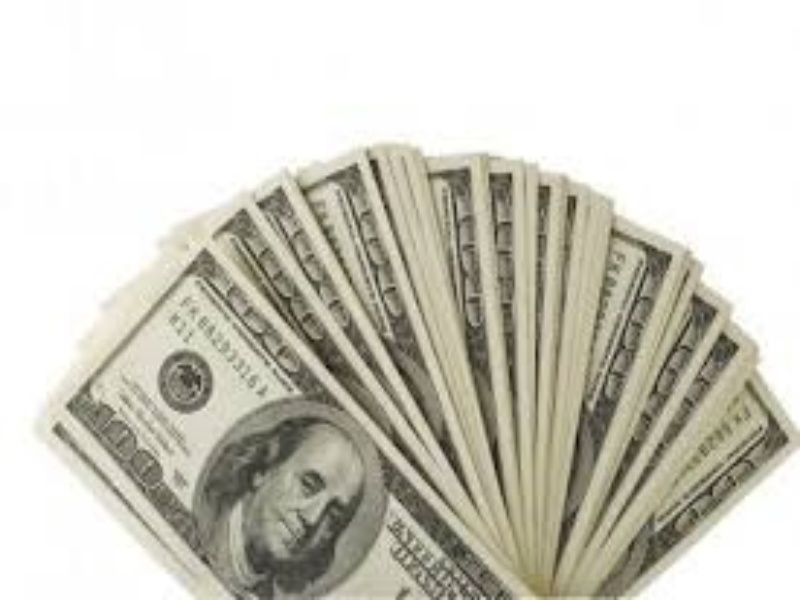cash: (35, 141, 800, 600)
